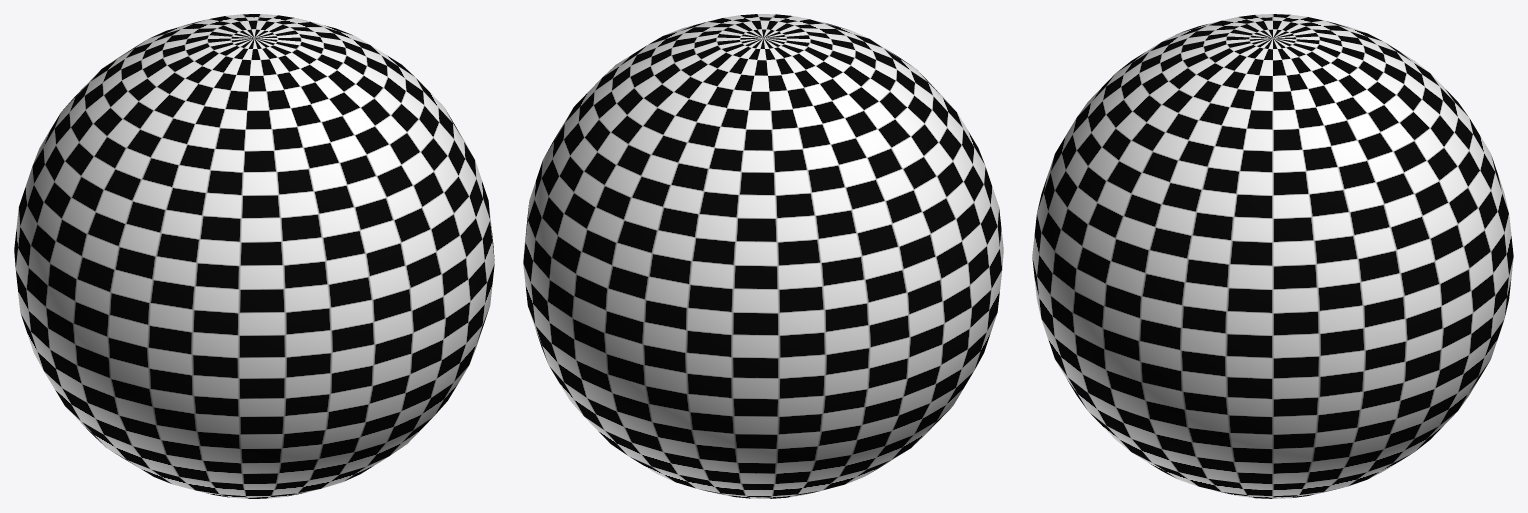
3 views of the same model, side by side, from view 1: azimuth 30°, elevation 25°; view 2: azimuth 150°, elevation 25°; view 3: azimuth 270°, elevation 25° (orthographic).
Visible parts, largest first — view 1: Sphere; view 2: Sphere; view 3: Sphere.
Part boxes in pixels (box(x1,y1,x2,y2)): Sphere: box(14, 14, 494, 498); Sphere: box(523, 14, 1003, 498); Sphere: box(1032, 14, 1513, 498).
Size of the model in its own units: 1.96 by 1.96 by 1.96.
1 material, 1 textured.
